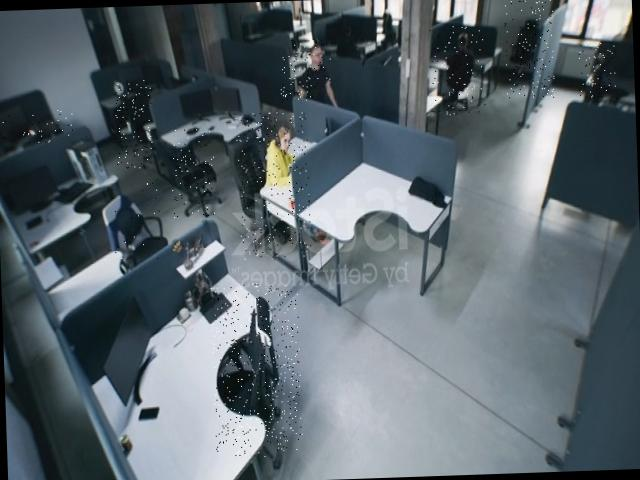empty chair: (210, 282, 304, 459), (102, 180, 162, 272), (504, 0, 556, 99), (170, 128, 216, 218), (115, 80, 154, 169), (577, 42, 617, 100), (280, 53, 316, 102)
occupiedchair: (236, 110, 312, 260), (430, 24, 488, 116), (0, 109, 73, 144)
